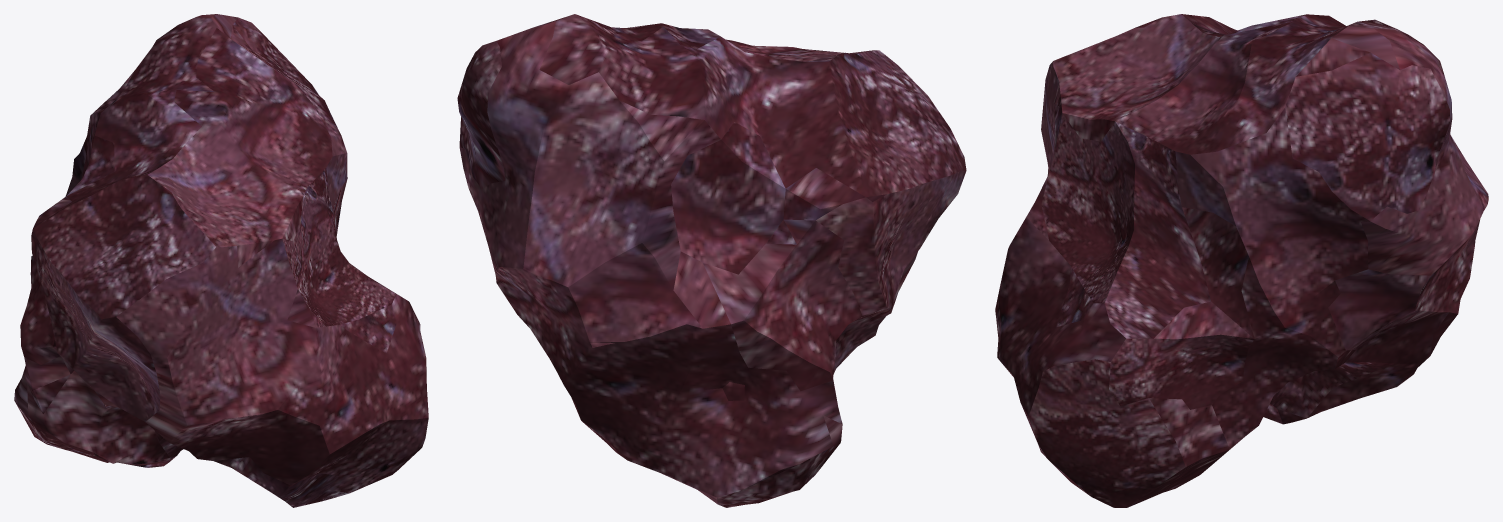
The model's file is AuthenticMeatChunk05.fbx.
3 views of the same model, side by side, from view 1: azimuth 30°, elevation 25°; view 2: azimuth 150°, elevation 25°; view 3: azimuth 270°, elevation 25° (orthographic). The views are drawn at different scales.
Parts seen in each view (by area): view 1: rock; view 2: rock; view 3: rock.
Part boxes in pixels (left/top/right/bottom): rock: left=14, top=14, right=428, bottom=507; rock: left=457, top=14, right=966, bottom=507; rock: left=995, top=14, right=1488, bottom=507.
Size of the model in its own units: 0.0914 by 0.1079 by 0.1036.
